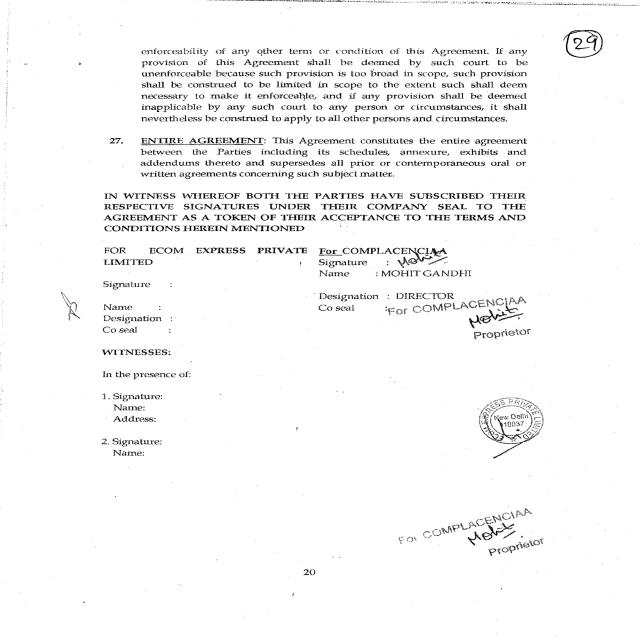page-number: (543, 0, 640, 78)
